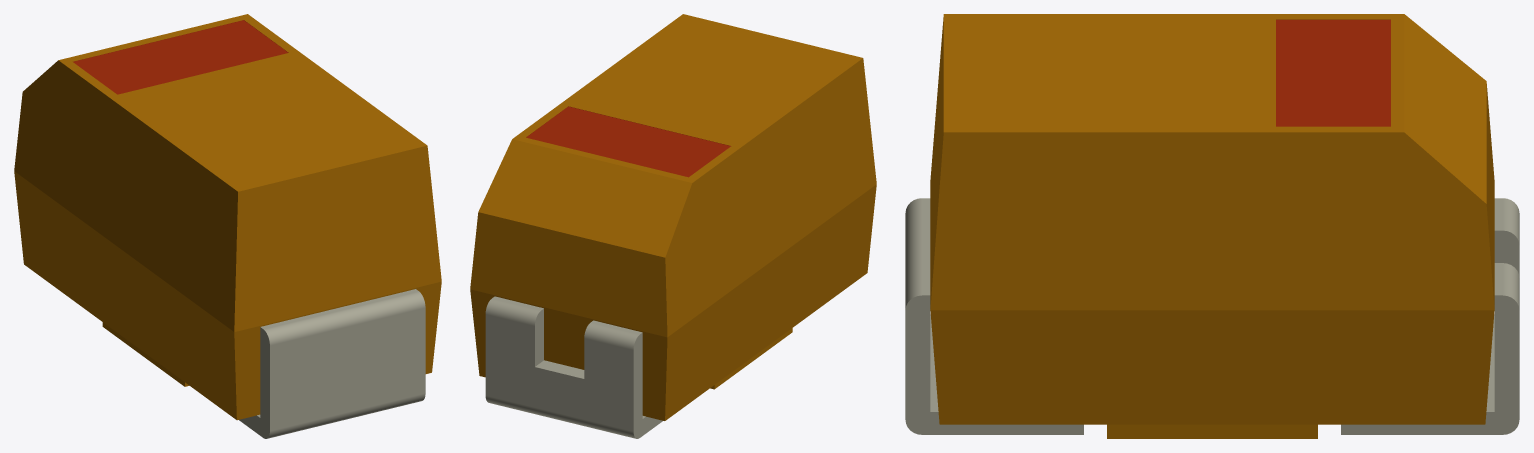
Rendered from C50_CP_EIA-3216-18_Kemet-A.obj.
3 renders of one model, left to right at view 1: azimuth 30°, elevation 25°; view 2: azimuth 150°, elevation 25°; view 3: azimuth 270°, elevation 25°, orthographic. The views are drawn at different scales.
Parts seen in each view (by area): view 1: C50; view 2: C50; view 3: C50.
Part boxes in pixels (x1,y1,x2,y2): C50: [14, 14, 441, 438]; C50: [470, 14, 876, 438]; C50: [905, 14, 1519, 438].
Bounding box in the file's own units: 0.016 × 0.018 × 0.032.
